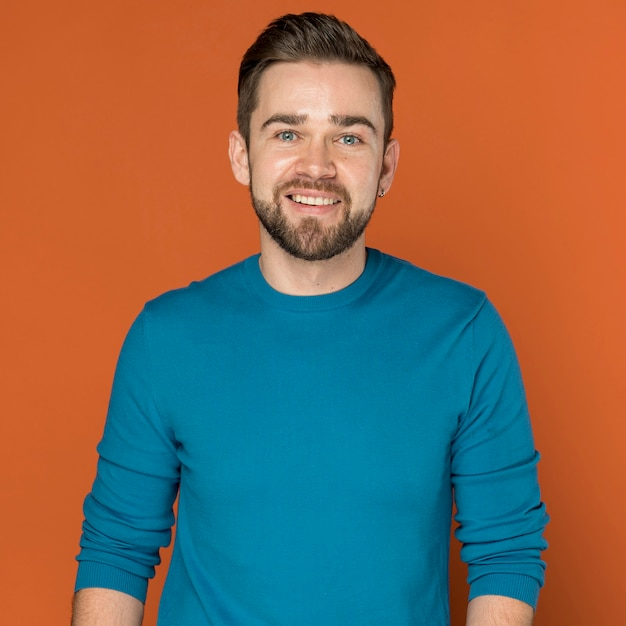young: (228, 9, 405, 296)
